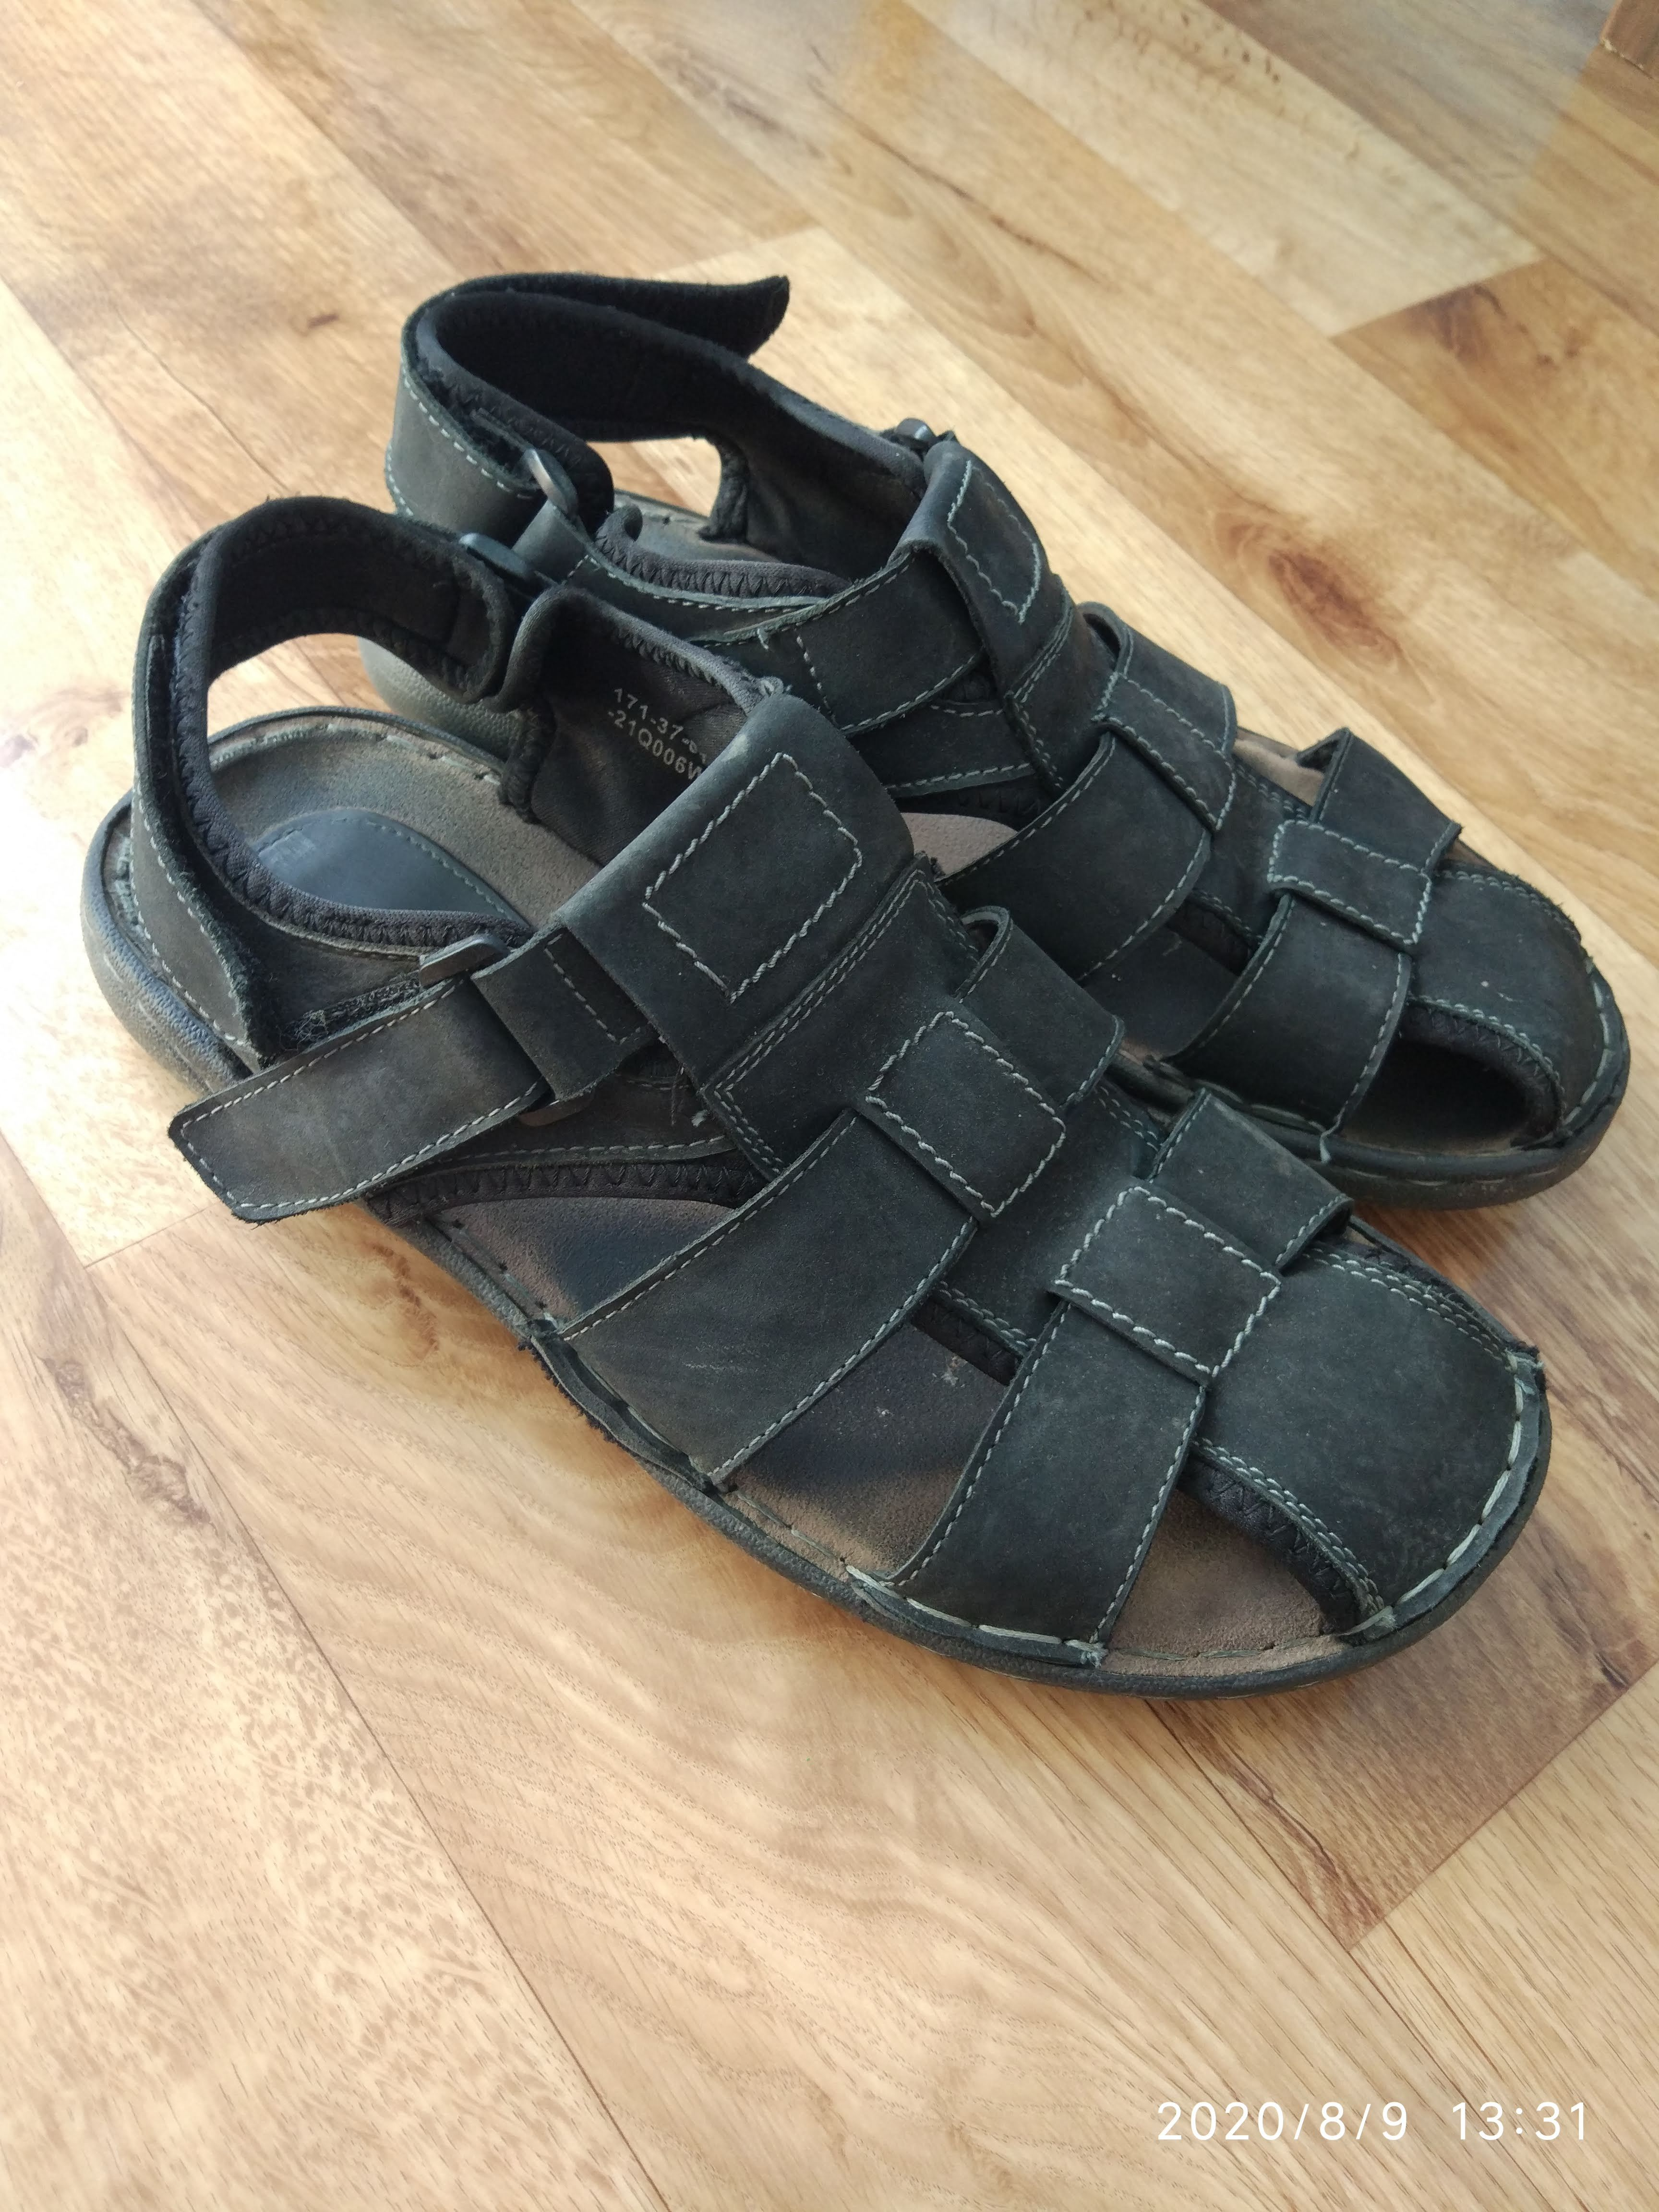clothes: (51, 204, 1656, 1733)
